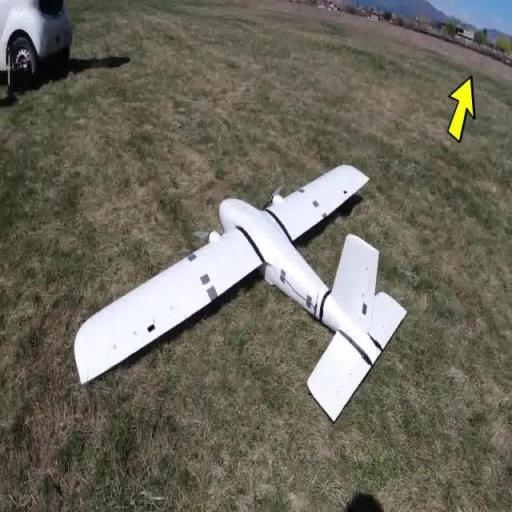uav: (68, 140, 414, 425)
